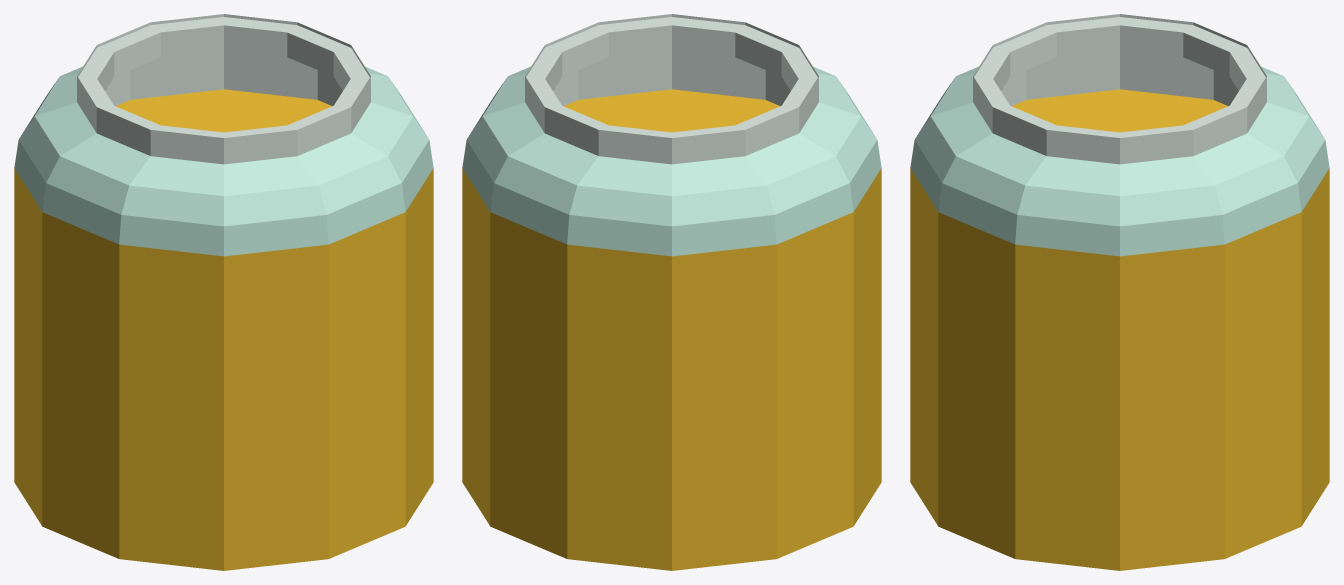
File: honey_jar_2.glb
3 views of the same model, side by side, from view 1: azimuth 30°, elevation 25°; view 2: azimuth 150°, elevation 25°; view 3: azimuth 270°, elevation 25° (orthographic).
Visible parts, largest first — view 1: honey_jar_2; view 2: honey_jar_2; view 3: honey_jar_2.
Part boxes in pixels (<box>): honey_jar_2: <box>14,14,433,570</box>; honey_jar_2: <box>462,14,881,570</box>; honey_jar_2: <box>910,14,1329,570</box>.
Size of the model in its own units: 1.19 by 1.27 by 1.19.
Materials: 1 (1 with a texture image).
